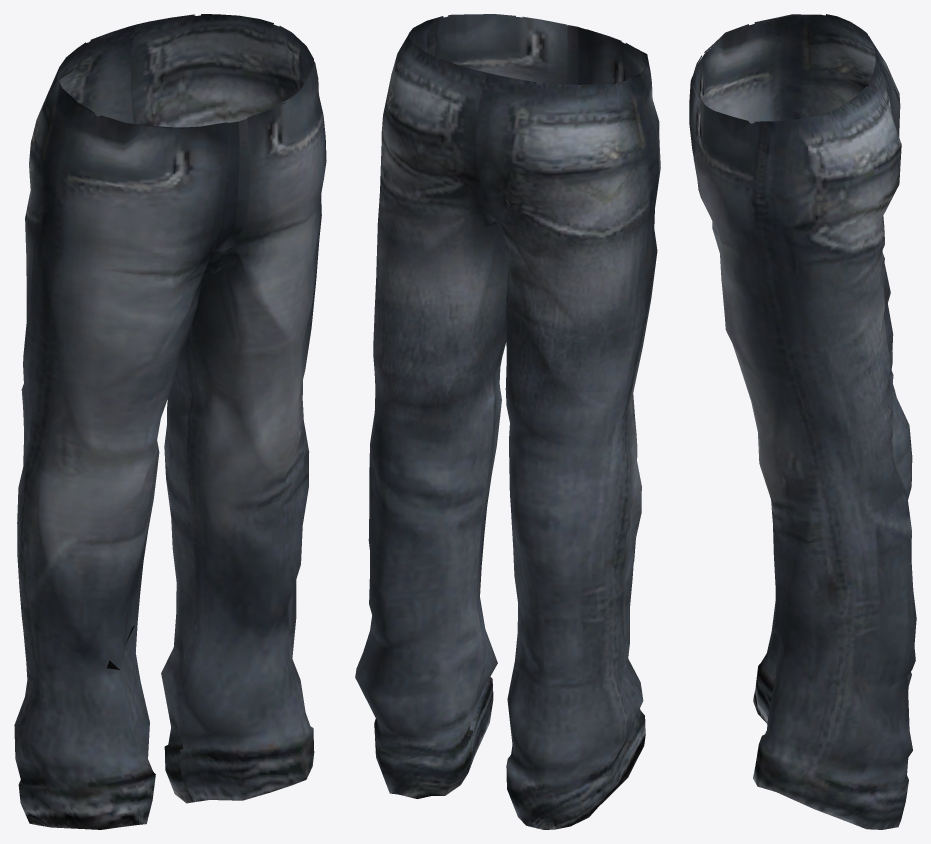
The model's file is PantsShape.obj.
3 renders of one model, left to right at view 1: azimuth 30°, elevation 25°; view 2: azimuth 150°, elevation 25°; view 3: azimuth 270°, elevation 25°, orthographic. The views are drawn at different scales.
Visible parts, largest first — view 1: Pants Brad_Skin CharacterRoot; view 2: Pants Brad_Skin CharacterRoot; view 3: Pants Brad_Skin CharacterRoot.
Part boxes in pixels (x1,y1,x2,y2): Pants Brad_Skin CharacterRoot: (14,14,326,829); Pants Brad_Skin CharacterRoot: (355,14,660,829); Pants Brad_Skin CharacterRoot: (689,14,916,829).
Size of the model in its own units: 39.7 by 108 by 30.49.
2 materials, 1 textured.
